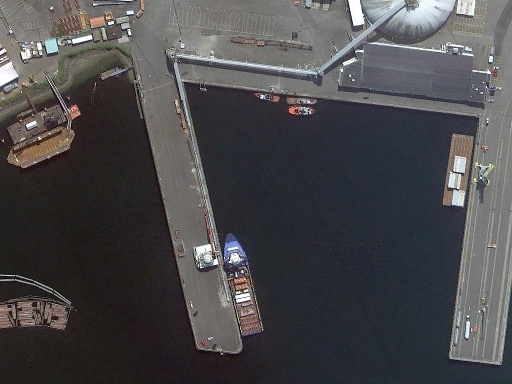ship: (216, 229, 266, 339)
